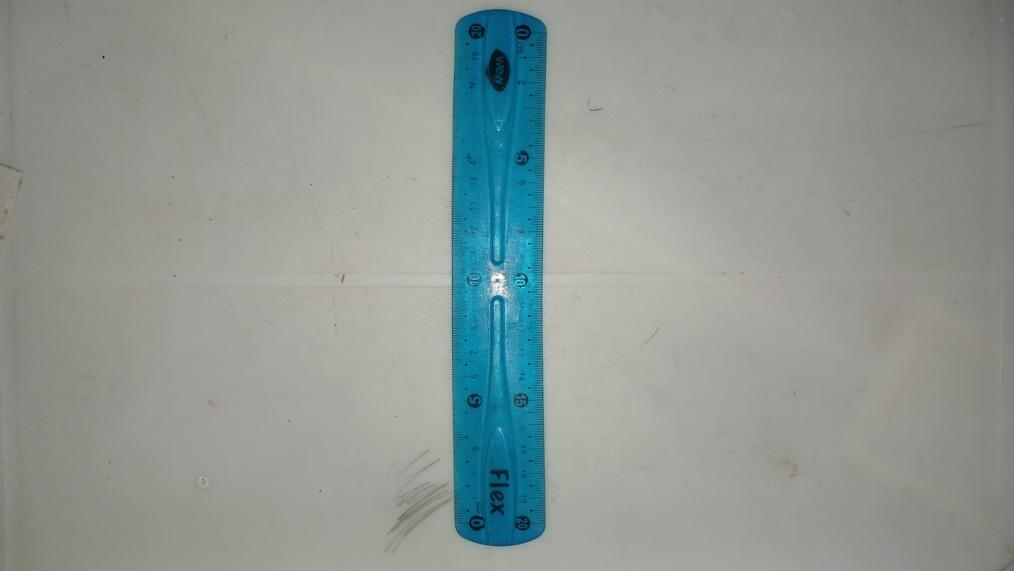Ruler: (456, 12, 547, 548)
